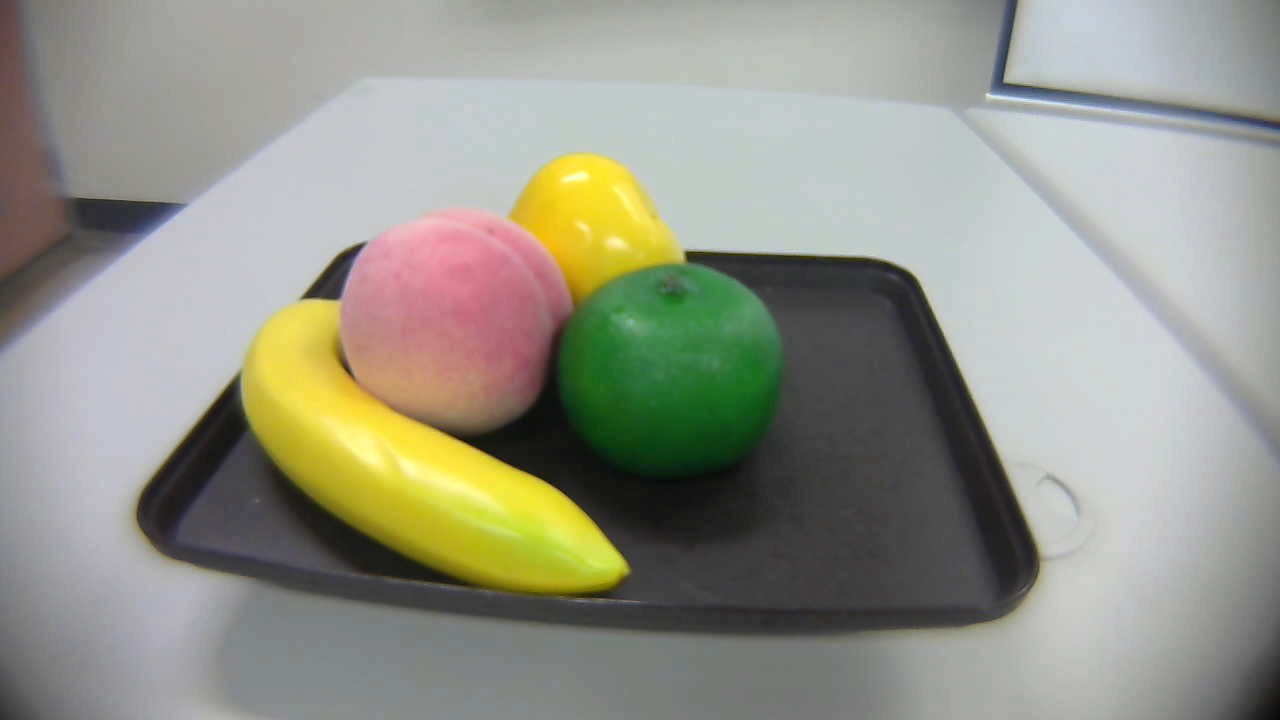banana: (220, 269, 635, 602)
green orange: (552, 264, 785, 476)
peach: (327, 210, 571, 435)
yellow pear: (500, 144, 690, 305)
